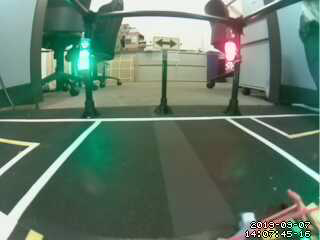Left_Right_sign: (153, 36, 182, 51)
Traffic_light_green: (77, 40, 95, 77)
Traffic_light_red: (225, 37, 244, 74)
